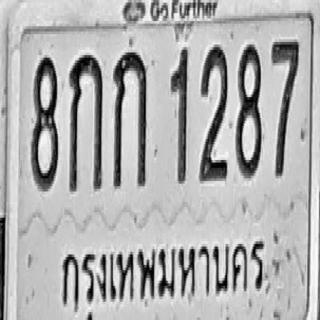A01: (113, 49, 147, 188), (69, 52, 102, 192)
N01: (170, 46, 188, 185)
N02: (199, 43, 228, 180)
N07: (272, 38, 299, 177)
N08: (30, 54, 58, 190), (236, 40, 262, 177)
P04: (56, 234, 267, 313)
